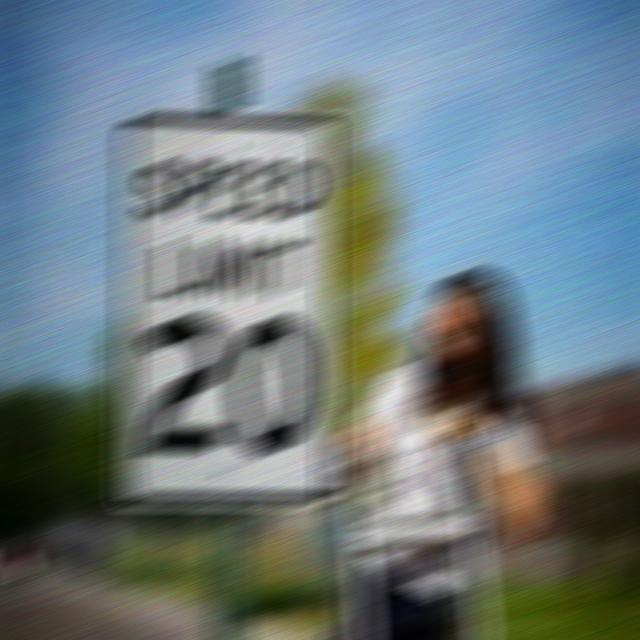speedLimit20: (104, 102, 352, 521)
